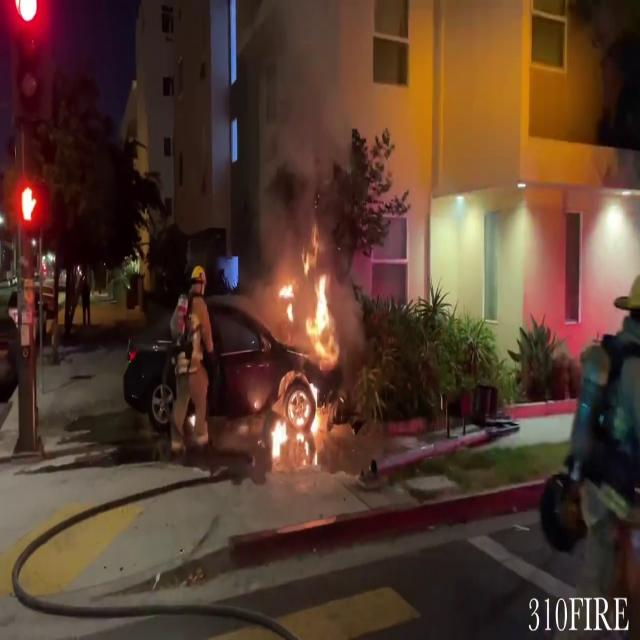Fire: (266, 240, 344, 482)
Smoke: (244, 1, 373, 222)
